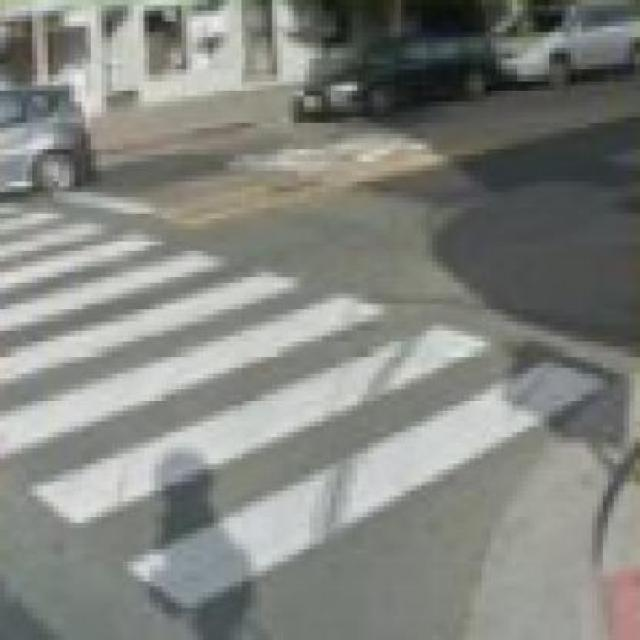crosswalk: (0, 200, 617, 615)
